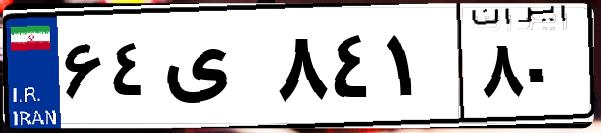0: (525, 38, 570, 115)
1: (385, 28, 445, 110)
4: (330, 28, 385, 110), (110, 28, 158, 98)
6: (57, 26, 110, 100)
8: (270, 28, 330, 110), (475, 38, 525, 113)
ی: (158, 20, 270, 120)
